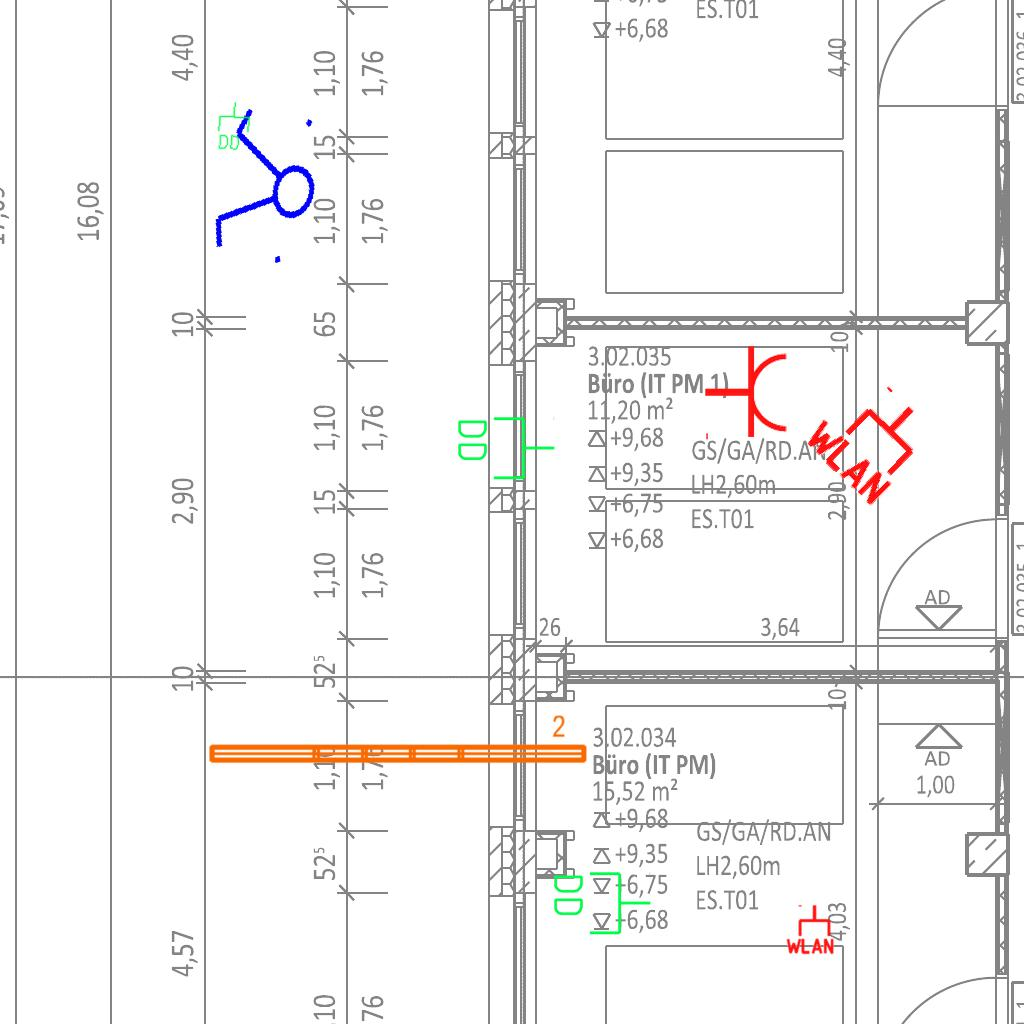Ambulanz_Pendelleuchte_LED: (204, 713, 591, 769)
Datenanschluss_zweifach: (454, 413, 557, 482), (550, 868, 653, 937), (215, 99, 252, 153)
Schukosteckdose_einfach: (703, 344, 790, 444)
Serienschalter: (202, 94, 334, 280)
WLAN: (797, 363, 946, 511), (784, 903, 836, 955)
